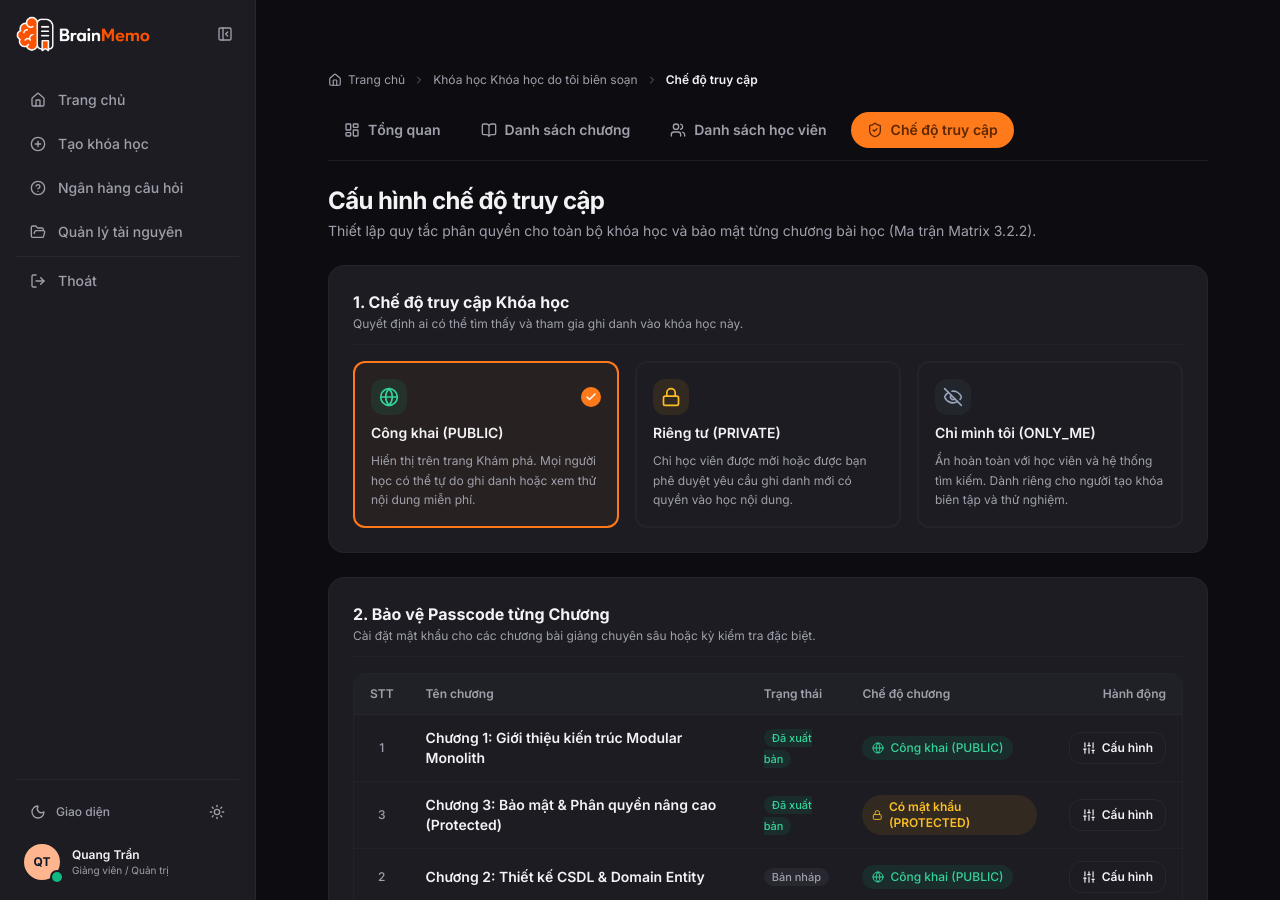
Scenario: S4 Enrollment & Learning Suite (SCR-CRS-05, SCR-CRS-06, SCR-LRN-01, SCR-LRN-07) › SCR-CRS-06: Cấu hình chế độ truy cập (/courses/:courseId/manage/access) › allows opening chapter passcode configuration modal
Click the 1st button "Cấu hình". click: (1117, 748)
box: [1069,732,1166,764]
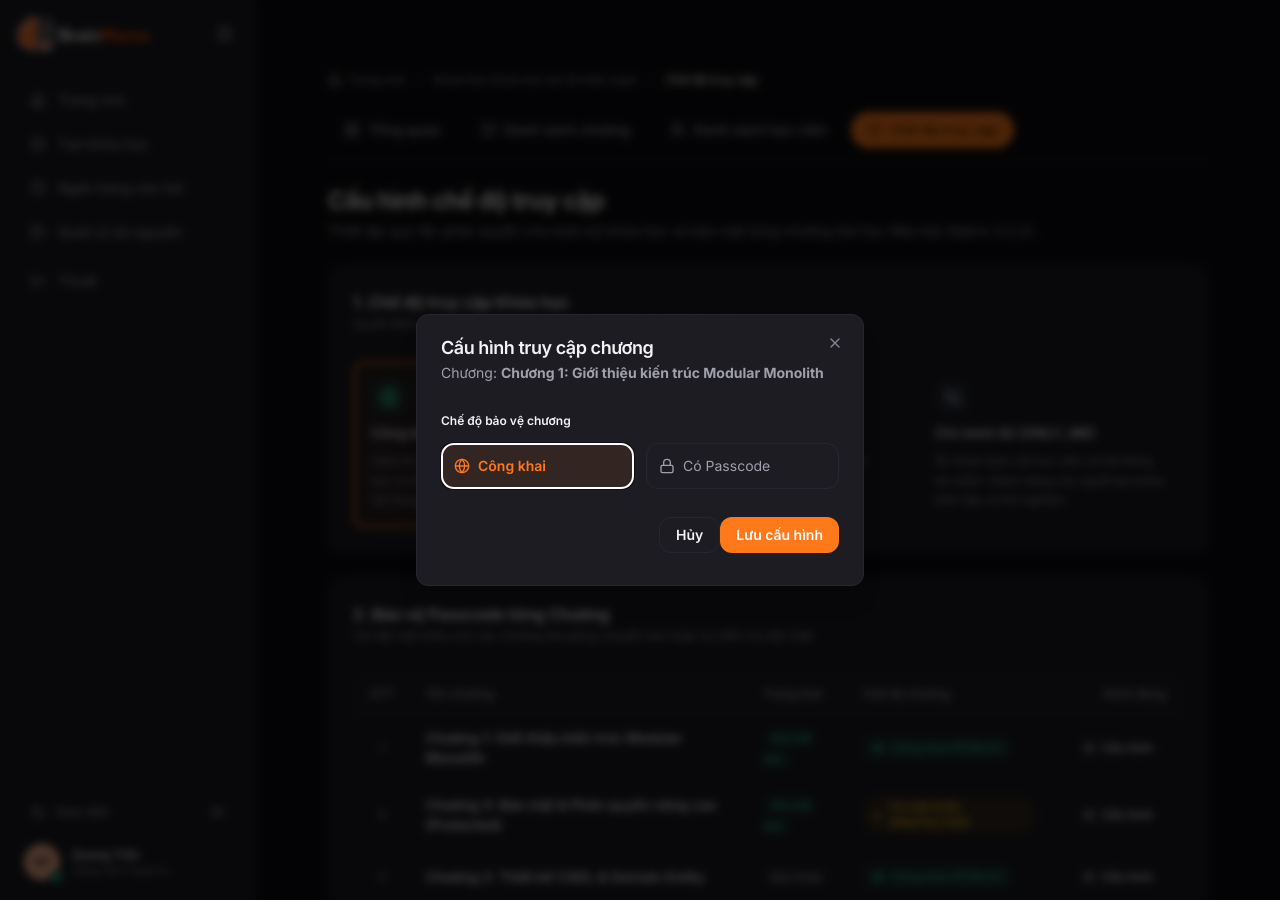
Check: the dialog is shown, box [416,314,864,586]
Check: the heading "Cấu hình truy cập chương" is shown, box [441,337,653,358]
